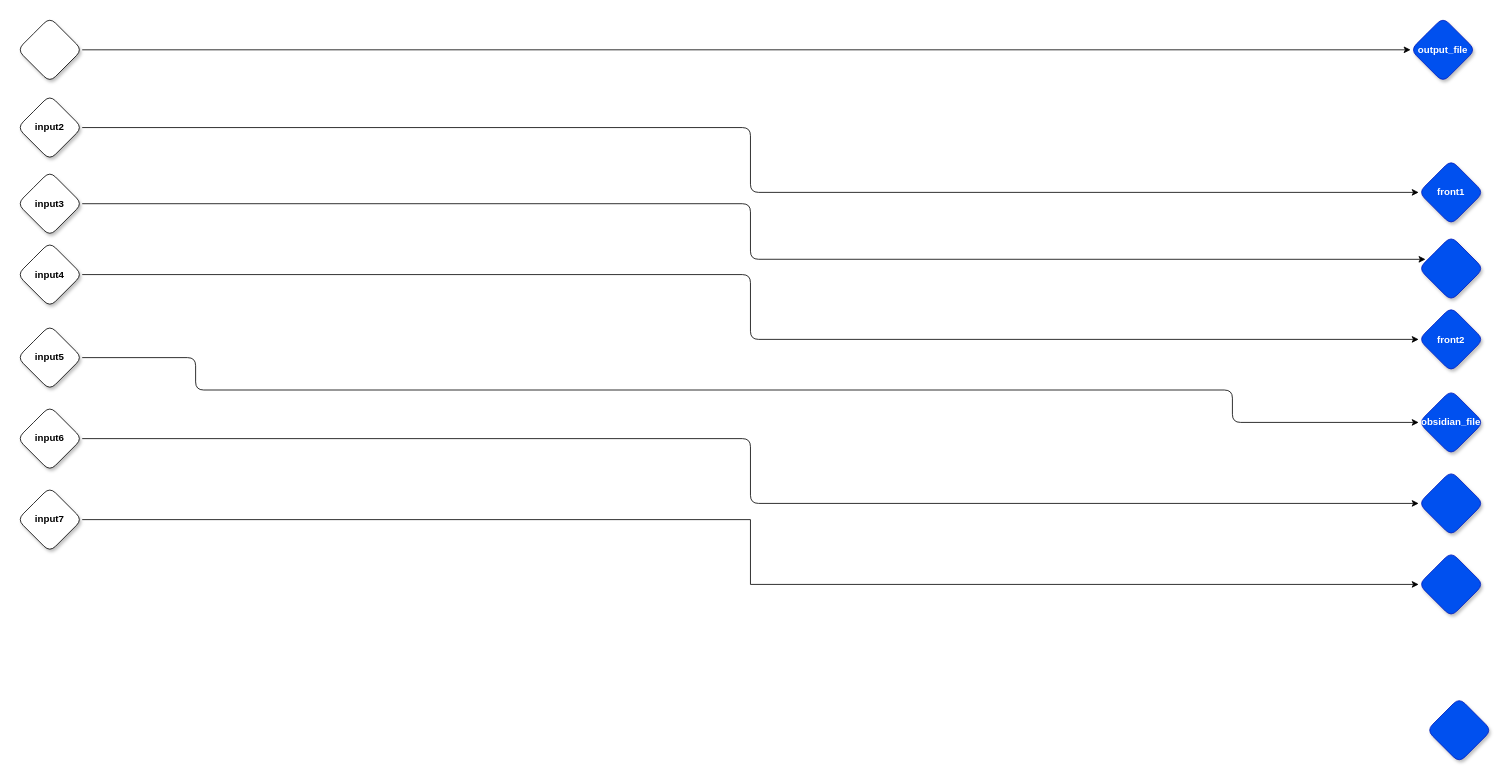
The diagram is 1511 pixels wide and 782 high, and some of its shapes have lost their labels. Here are the shapes that lost their labels. From the top down, the centre of each, then its label:
the point at 50,50: input1
the point at 1451,269: title
the point at 1451,504: back
the point at 1451,585: close
the point at 1459,731: error
